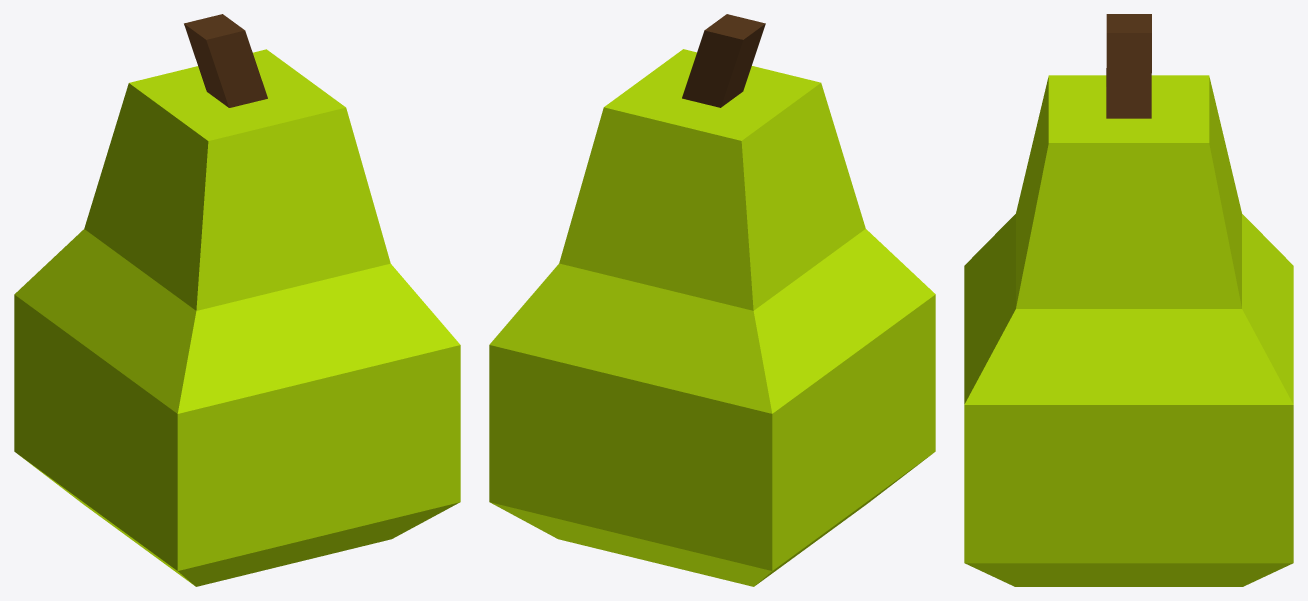
File: pera.fbx
The picture shows the model from 3 angles, left to right: view 1: azimuth 30°, elevation 25°; view 2: azimuth 150°, elevation 25°; view 3: azimuth 270°, elevation 25°; orthographic projection.
Parts seen in each view (by area): view 1: Pera; view 2: Pera; view 3: Pera.
Boxes of the visible parts, <box> form: Pera: <box>14,14,460,586</box>; Pera: <box>489,14,935,586</box>; Pera: <box>964,14,1293,586</box>.
Bounding box in the file's own units: 4.34 × 7.33 × 4.34.
